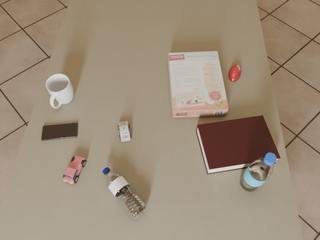book: (196, 116, 280, 174)
bottle: (103, 167, 147, 219), (240, 153, 276, 191)
box: (168, 51, 228, 118)
cup: (46, 74, 73, 108)
mouse: (228, 65, 241, 82)
phone: (41, 123, 78, 140)
toy_car: (63, 155, 86, 184), (118, 121, 131, 142)
